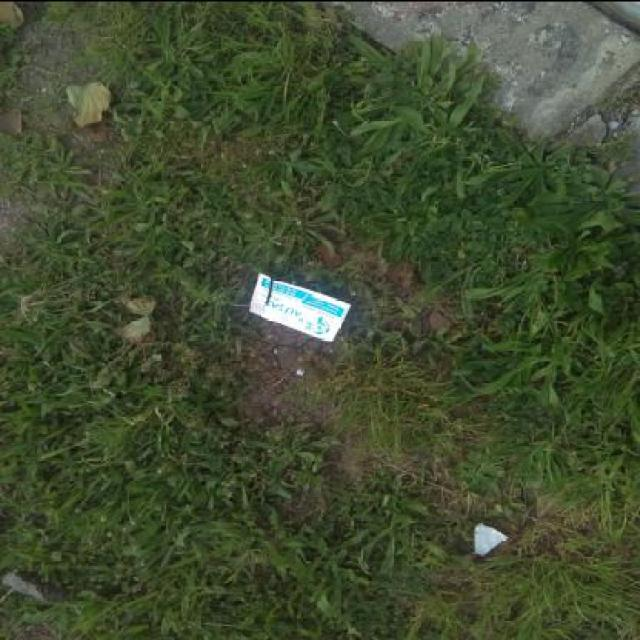paper: (248, 272, 352, 342)
